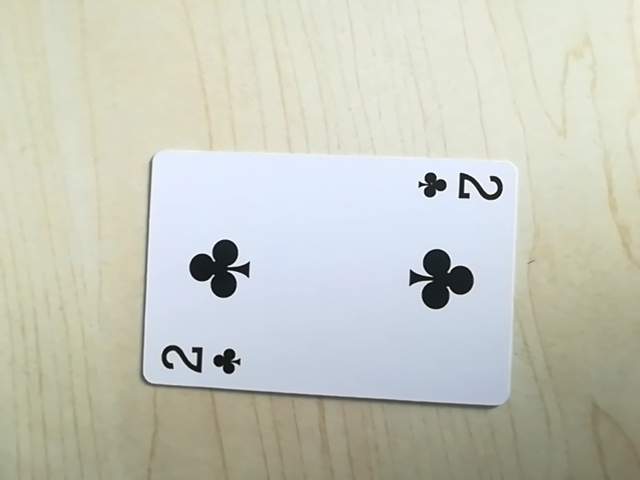mh 2: (155, 337, 247, 384), (414, 165, 507, 207)
